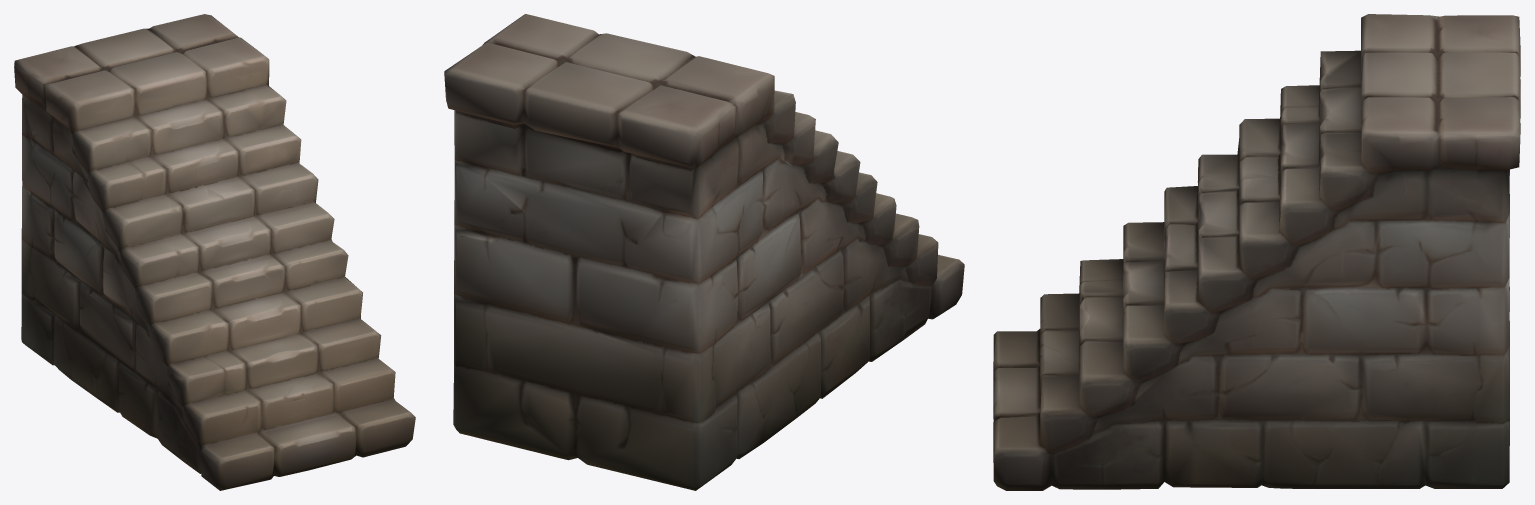
The model's file is StairsStone.fbx.
The picture shows the model from 3 angles, left to right: view 1: azimuth 30°, elevation 25°; view 2: azimuth 150°, elevation 25°; view 3: azimuth 270°, elevation 25°; orthographic projection. The views are drawn at different scales.
Parts seen in each view (by area): view 1: StairsStone; view 2: StairsStone; view 3: StairsStone.
Boxes of the visible parts, x1,y1,x2,y2 form: StairsStone: [14, 14, 415, 490]; StairsStone: [444, 14, 964, 490]; StairsStone: [993, 14, 1520, 490].
Bounding box in the file's own units: 0.5519 × 0.7526 × 0.9982.
